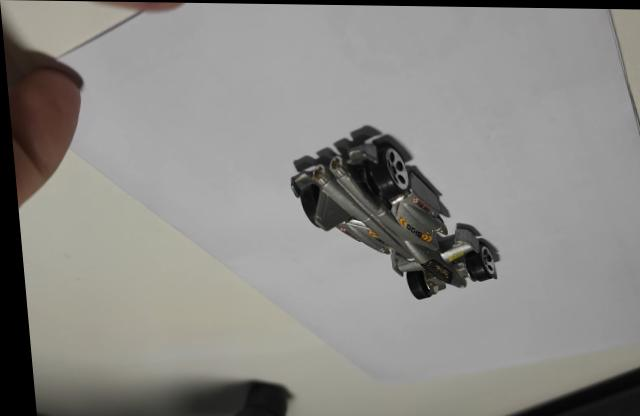05_DC121: (286, 127, 497, 297)
